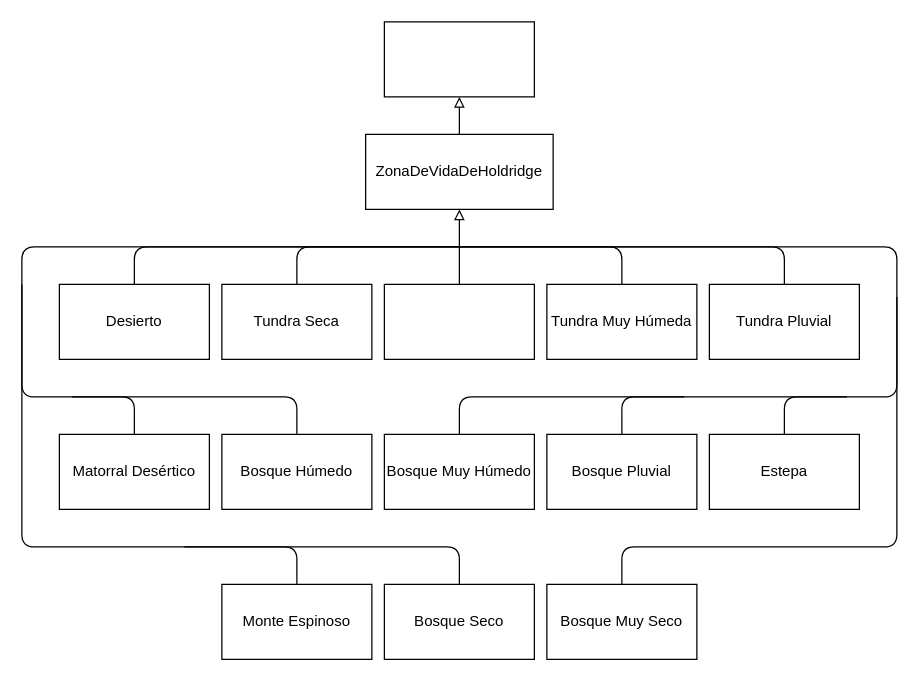
Image size: 920x681. Some labels were removed from this diagram. Each missing label, with the centre of its shape:
Tundra Húmeda: the point at 458,321
ZonaBioclimática: the point at 458,59
